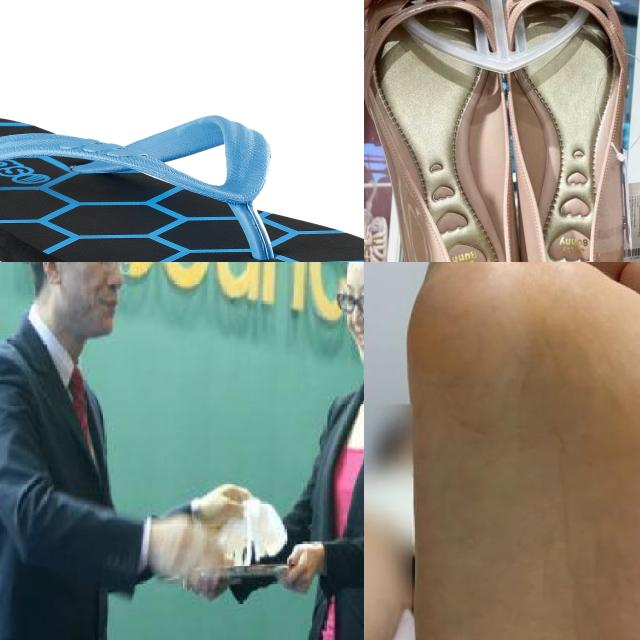Barefoots: (402, 262, 640, 640)
Sandals: (364, 0, 635, 262), (0, 113, 364, 262)
face_nomask: (66, 262, 140, 355), (329, 262, 364, 364)
glasses: (334, 290, 364, 317), (95, 262, 136, 270)
hand_glove: (197, 480, 258, 528)
hand_noglove: (286, 540, 324, 597)
person: (0, 262, 199, 640), (255, 262, 364, 640)
